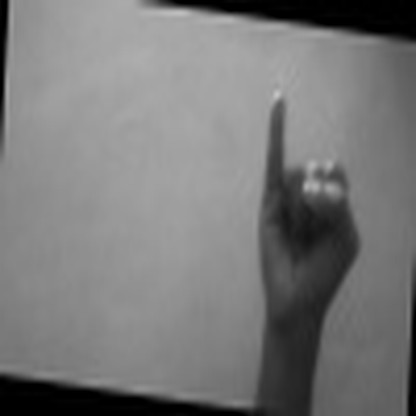i: (243, 86, 376, 321)
